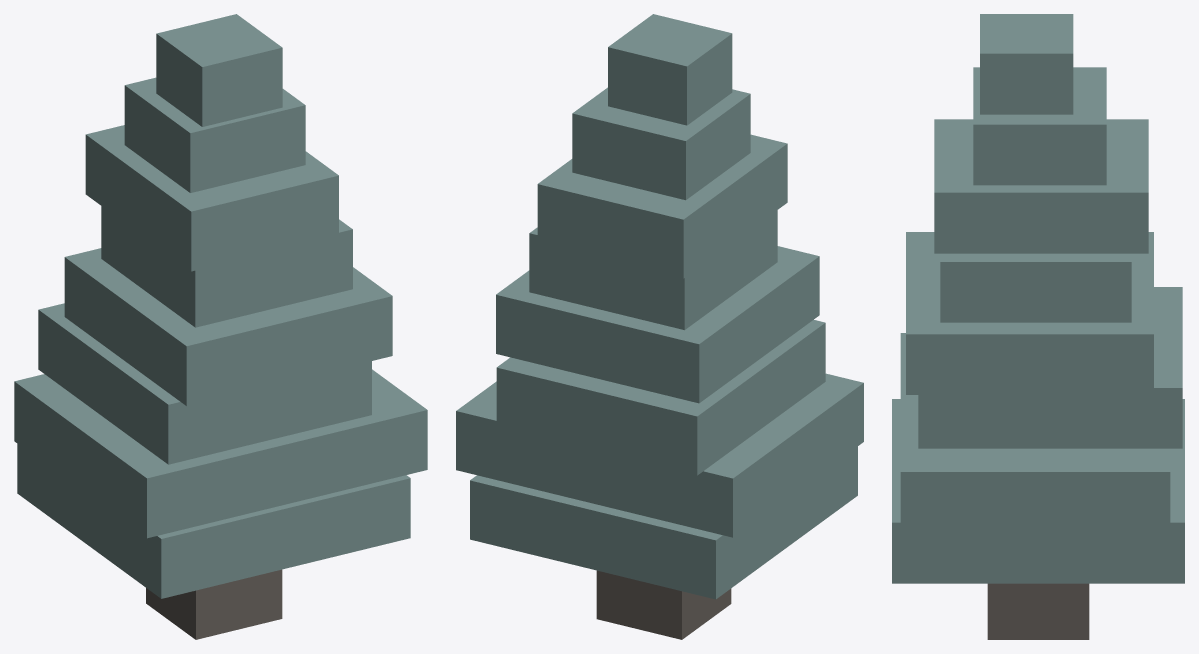
The model's file is smreka.fbx.
3 renders of one model, left to right at view 1: azimuth 30°, elevation 25°; view 2: azimuth 150°, elevation 25°; view 3: azimuth 270°, elevation 25°, orthographic. The views are drawn at different scales.
Parts seen in each view (by area): view 1: Camera; view 2: Camera; view 3: Camera.
Boxes of the visible parts, x1,y1,x2,y2 form: Camera: (14,14,427,639); Camera: (456,14,863,639); Camera: (892,14,1184,639).
Bounding box in the file's own units: 118 × 231 × 105.
